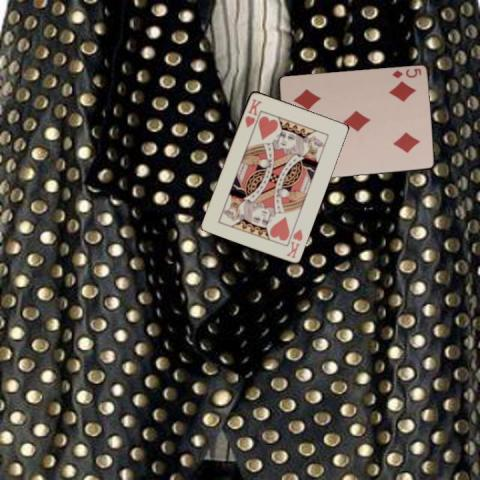5d: (389, 65, 422, 80)
Kh: (242, 95, 263, 129), (283, 226, 304, 260)
